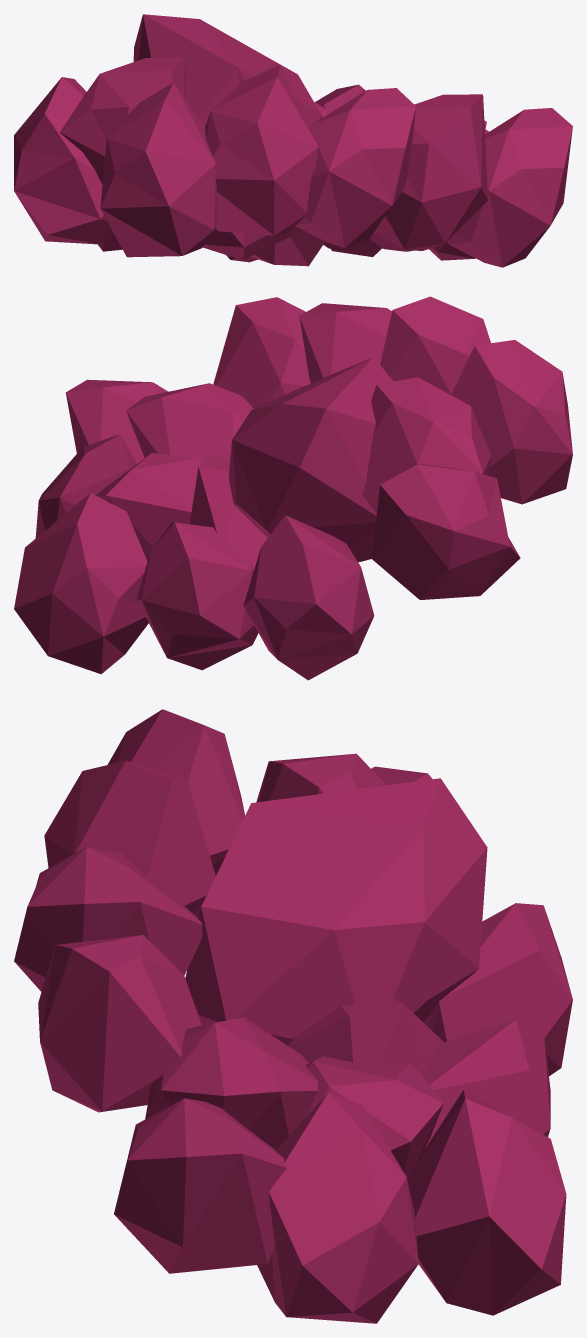
The model's file is Rocks_Cluster_unwrap_br.gltf.
3 renders of one model, top to bottom at view 1: azimuth 30°, elevation 25°; view 2: azimuth 150°, elevation 25°; view 3: azimuth 270°, elevation 25°, orthographic. The views are drawn at different scales.
Visible parts, largest first — view 1: Icosphere.007; view 2: Icosphere.007; view 3: Icosphere.007.
Part boxes in pixels (x1=…): Icosphere.007: x1=14, y1=14, x2=572, y2=267; Icosphere.007: x1=14, y1=296, x2=572, y2=680; Icosphere.007: x1=14, y1=709, x2=572, y2=1323.
Bounding box in the file's own units: 8.47 × 5.07 × 6.31.
